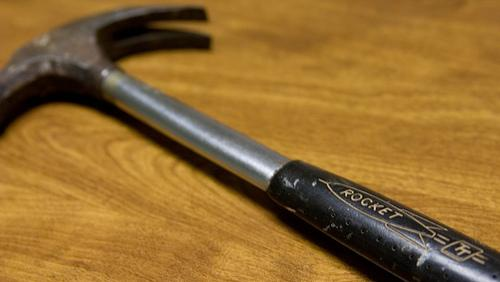hammer: (0, 5, 499, 281)
